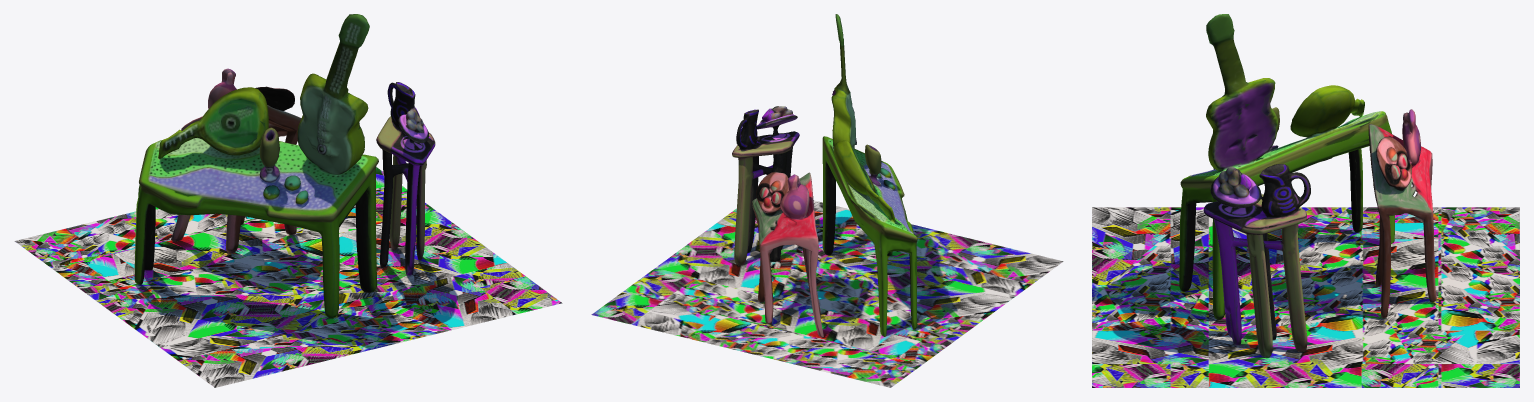
Rendered from glitch-picassos.glb.
3 views of the same model, side by side, from view 1: azimuth 30°, elevation 25°; view 2: azimuth 150°, elevation 25°; view 3: azimuth 270°, elevation 25° (orthographic). The views are drawn at different scales.
Visible parts, largest first — view 1: PicassoStillLife1; view 2: PicassoStillLife1; view 3: PicassoStillLife1.
Part boxes in pixels (x1=…): PicassoStillLife1: x1=14, y1=14, x2=562, y2=387; PicassoStillLife1: x1=591, y1=14, x2=1063, y2=387; PicassoStillLife1: x1=1092, y1=14, x2=1519, y2=387.
Size of the model in its own units: 3.05 by 2.38 by 3.05.
Materials: 4 (4 with a texture image).
